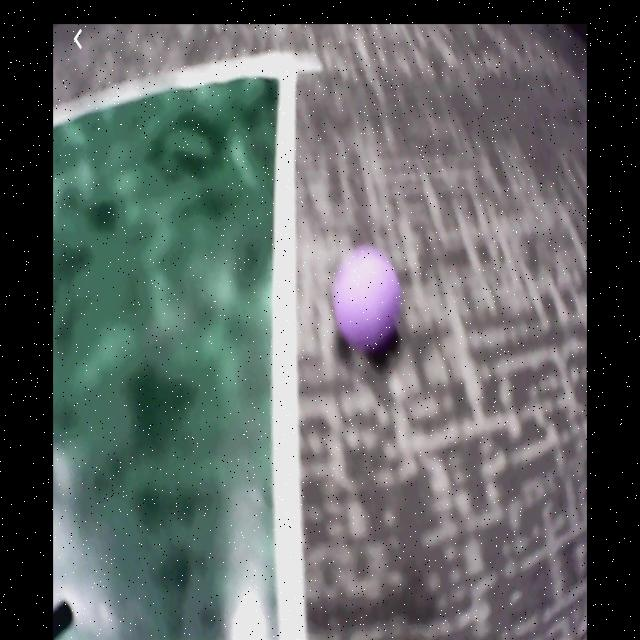ball: (332, 244, 403, 356)
